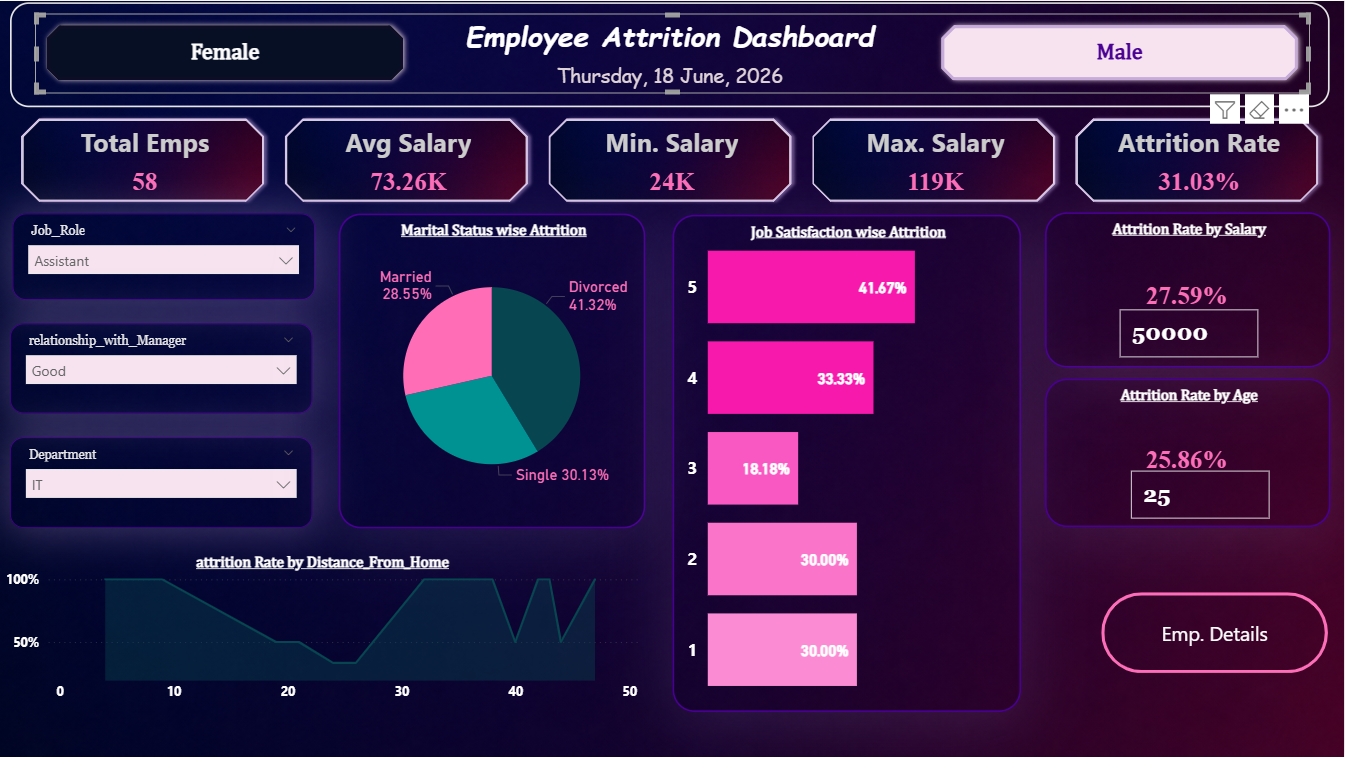

What the dashboard file says about the page in this screenshot:
{"tool":"powerbi","page":{"name":"Main","canvas":[1280,720],"ordinal":0},"visuals":[{"type":"textbox","box":[10,1.4,1257.1,100],"z":0},{"type":"card","fields":{"Values":["emp_attrition.Current date"]},"box":[467.1,44.3,342.9,57.1],"z":1000},{"type":"cardVisual","fields":{"Data":["CountNonNull(emp_attrition.Employee_ID)","Avg(emp_attrition.Monthly_Income)","Min(emp_attrition.Monthly_Income)1","Max(emp_attrition.Monthly_Income)2","emp_attrition.attrition Rate"]},"box":[9.5,101.2,1257.1,101.2],"z":2000},{"type":"slicer","fields":{"Values":["emp_attrition.Department"]},"box":[10,415.6,287.8,86.7],"z":3000},{"type":"slicer","fields":{"Values":["emp_attrition.Job_Role"]},"box":[12.2,202.2,287.8,82.2],"z":4000},{"type":"slicer","fields":{"Values":["emp_attrition.relationship_with_Manager"]},"box":[10,306.7,287.8,85.6],"z":5000},{"type":"advancedSlicerVisual","fields":{"Values":["emp_attrition.Gender"]},"box":[32.8,12.3,1214.4,75.9],"z":6000},{"type":"pieChart","title":"Marital Status wise Attrition","fields":{"Y":["emp_attrition.attrition Rate"],"Category":["emp_attrition.Marital_Status"]},"box":[322.2,202.2,292.2,300],"z":7000},{"type":"clusteredBarChart","title":"Job Satisfaction wise Attrition","fields":{"Category":["emp_attrition.Job_Satisfaction"],"Y":["emp_attrition.attrition Rate"]},"box":[640,203.5,332.1,474],"z":8000},{"type":"cardVisual","title":"Attrition Rate by Salary","fields":{"Data":["emp_attrition.attrition Rate high salary"]},"box":[995,201.7,271.7,148.3],"z":9000},{"type":"lineChart","fields":{"Y":["emp_attrition.attrition Rate"],"Category":["emp_attrition.Distance_From_Home"]},"box":[0,527.8,614.4,148.9],"z":10000},{"type":"slicer","fields":{"Values":["Parameter.Parameter"]},"box":[1053.3,283.3,163.3,90],"z":11000},{"type":"cardVisual","title":"Attrition Rate by Age","fields":{"Data":["emp_attrition.attrition Rate Age"]},"box":[995,359,271.7,141.7],"z":12000},{"type":"actionButton","box":[1048.7,562.9,215.9,77.1],"z":13000},{"type":"slicer","fields":{"Values":["age.age"]},"box":[1064,437,157.9,75],"z":14000}]}

Visuals, with their boxes in screenshot pixels (x1, y1, x2, y2), scaled from the page's 1280x720 canvas onto the 1345x757 screenshot:
textbox: <box>11,1,1331,107</box>
card - emp_attrition.Current date: <box>491,47,851,107</box>
cardVisual - CountNonNull(emp_attrition.Employee_ID) x Avg(emp_attrition.Monthly_Income): <box>10,106,1331,213</box>
slicer - emp_attrition.Department: <box>11,437,313,528</box>
slicer - emp_attrition.Job_Role: <box>13,213,315,299</box>
slicer - emp_attrition.relationship_with_Manager: <box>11,322,313,412</box>
advancedSlicerVisual - emp_attrition.Gender: <box>34,13,1311,93</box>
"Marital Status wise Attrition" pieChart: <box>339,213,646,528</box>
"Job Satisfaction wise Attrition" clusteredBarChart: <box>672,214,1021,712</box>
"Attrition Rate by Salary" cardVisual: <box>1046,212,1331,368</box>
lineChart - emp_attrition.attrition Rate x emp_attrition.Distance_From_Home: <box>0,555,646,711</box>
slicer - Parameter.Parameter: <box>1107,298,1278,392</box>
"Attrition Rate by Age" cardVisual: <box>1046,377,1331,526</box>
actionButton: <box>1102,592,1329,673</box>
slicer - age.age: <box>1118,459,1284,538</box>
